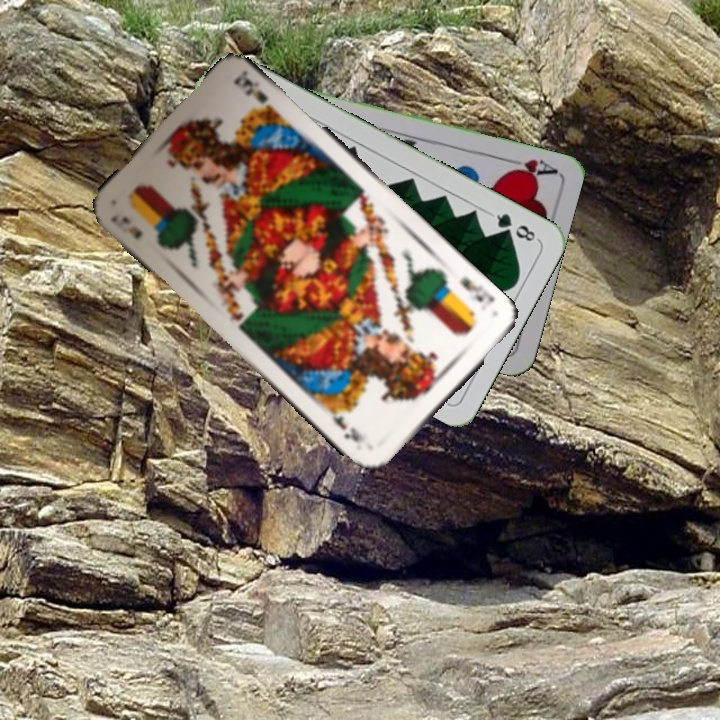EK: (455, 273, 498, 313), (107, 211, 145, 242)
G8: (486, 209, 541, 244)
HA: (500, 154, 559, 182)
